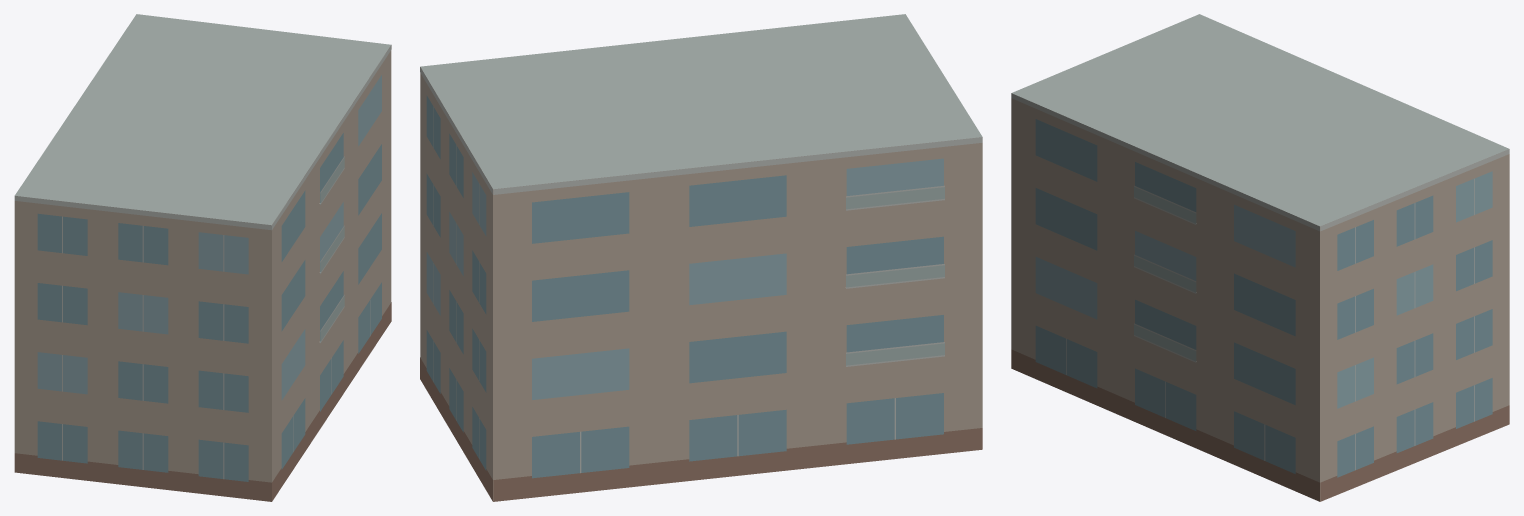
Rendered from survey-upis-32780660.glb.
3 renders of one model, left to right at view 1: azimuth 30°, elevation 25°; view 2: azimuth 150°, elevation 25°; view 3: azimuth 270°, elevation 25°, orthographic. The views are drawn at different scales.
Visible parts, largest first — view 1: survey-upis-32780660.tmp; view 2: survey-upis-32780660.tmp; view 3: survey-upis-32780660.tmp.
Boxes of the visible parts, x1,y1,x2,y2 form: survey-upis-32780660.tmp: [14, 14, 391, 501]; survey-upis-32780660.tmp: [420, 14, 982, 501]; survey-upis-32780660.tmp: [1011, 14, 1509, 501].
Bounding box in the file's own units: 22.09 × 13.35 × 21.89.
